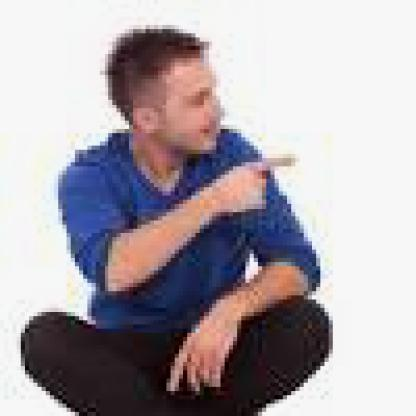Left: (214, 155, 314, 211)
